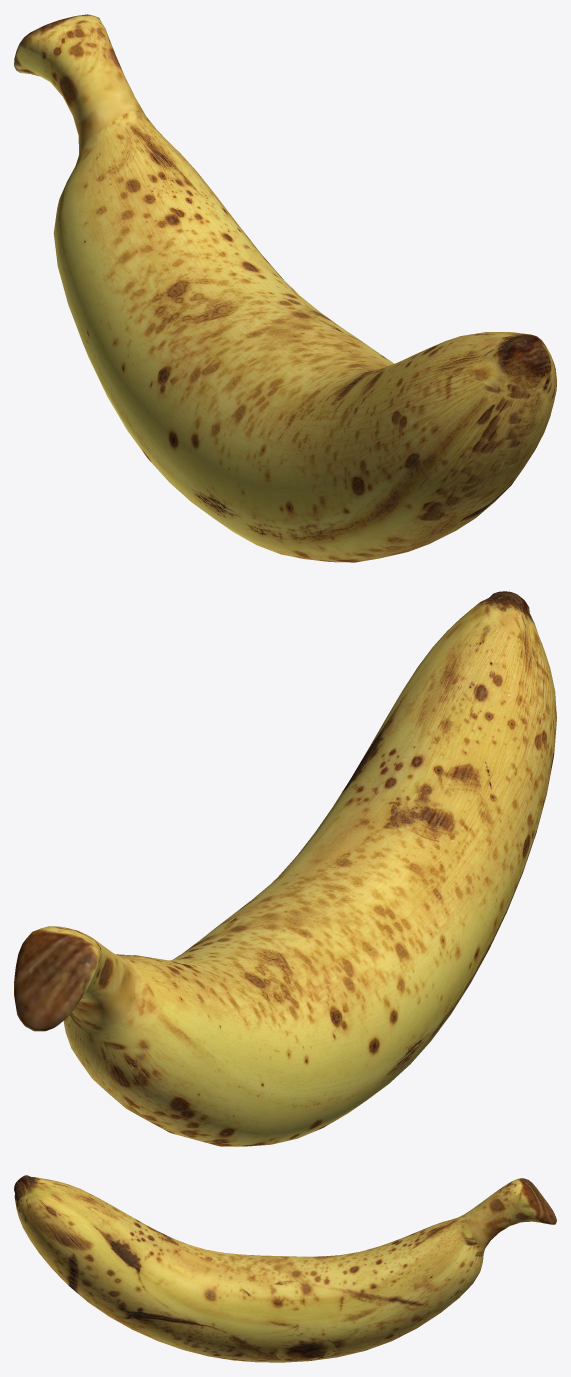
File: banana.glb
3 renders of one model, top to bottom at view 1: azimuth 30°, elevation 25°; view 2: azimuth 150°, elevation 25°; view 3: azimuth 270°, elevation 25°, orthographic. The views are drawn at different scales.
Parts seen in each view (by area): view 1: Object_2; view 2: Object_2; view 3: Object_2.
Part boxes in pixels (x1,y1,x2,y2): Object_2: (14,14,556,562); Object_2: (14,591,556,1146); Object_2: (14,1175,556,1362).
Bounding box in the file's own units: 0.0468 × 0.0769 × 0.2025.
1 material, 1 textured.
